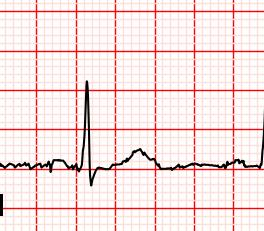LVH: (114, 143, 167, 171)
ST Depression: (77, 162, 103, 190)
